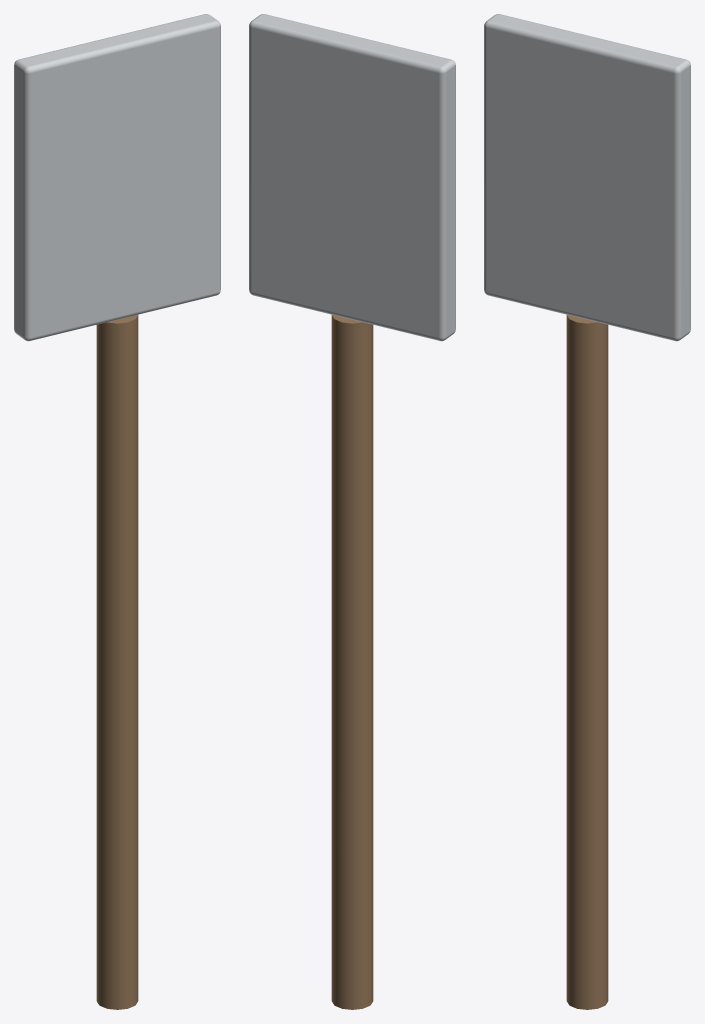
The model's file is chocolate-making-and-confectionery-mixer-scraper-paddl-2cb349cf__39175.glb.
The picture shows the model from 3 angles, left to right: view 1: azimuth 30°, elevation 25°; view 2: azimuth 150°, elevation 25°; view 3: azimuth 330°, elevation 25°; orthographic projection.
Visible parts, largest first — view 1: mixer-scraper-paddle; view 2: mixer-scraper-paddle; view 3: mixer-scraper-paddle.
Part boxes in pixels (box(x1,y1,x2,y2)): mixer-scraper-paddle: box(14, 14, 220, 1009); mixer-scraper-paddle: box(249, 14, 455, 1009); mixer-scraper-paddle: box(484, 14, 690, 1009).
Bounding box in the file's own units: 0.12 × 0.56 × 0.022.
